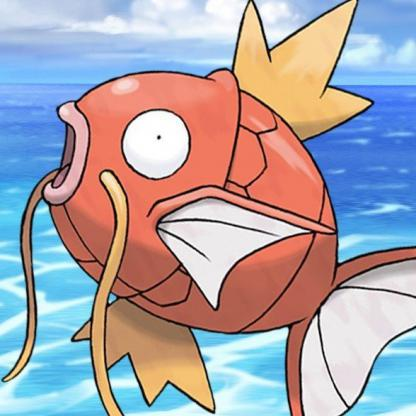Magikarp: (1, 1, 393, 416), (1, 18, 388, 416)
